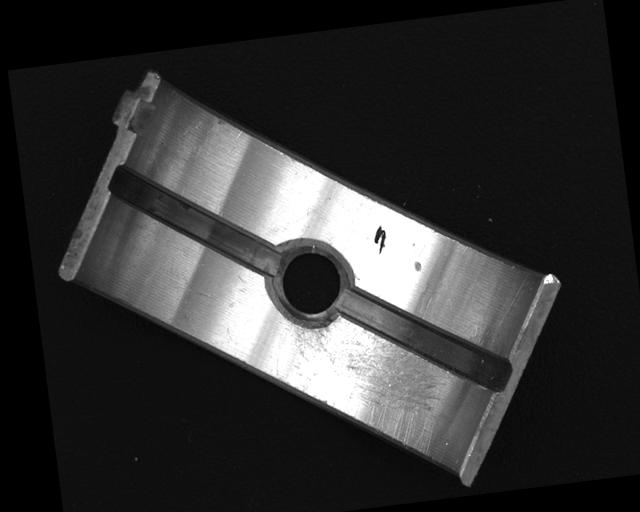blot: (370, 224, 389, 255)
bruise: (413, 260, 422, 273)
gap: (105, 147, 287, 294), (341, 273, 515, 408)
hole: (261, 237, 356, 329)
scratch: (287, 302, 455, 470)
